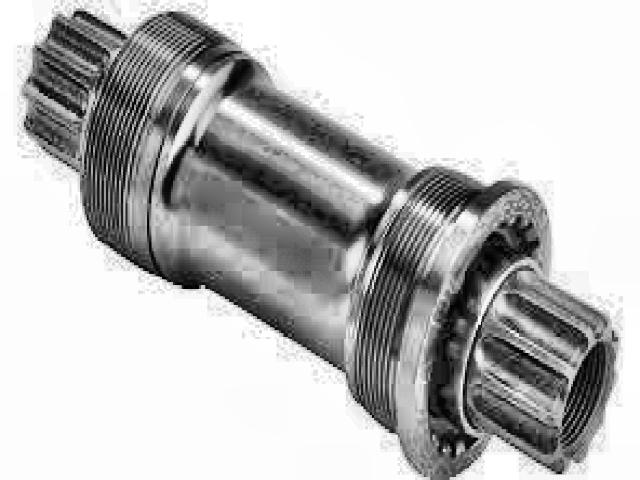bottom_bracket: (18, 9, 622, 480)
